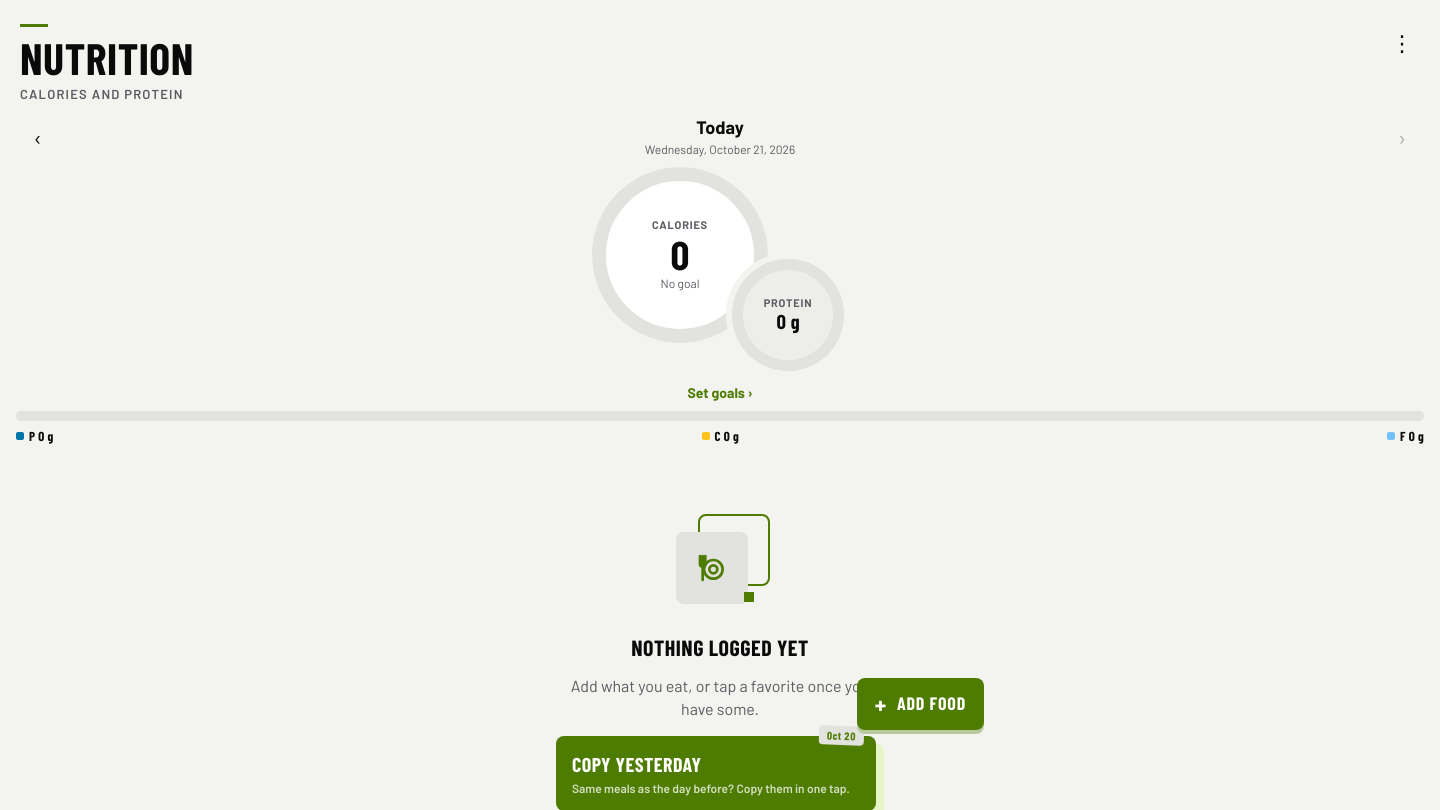
Test: portion in the day list › keeps the grams on copied entries
Click the button with test id "copy-previous-day". click: x=637, y=764
box: [556,736,876,809]
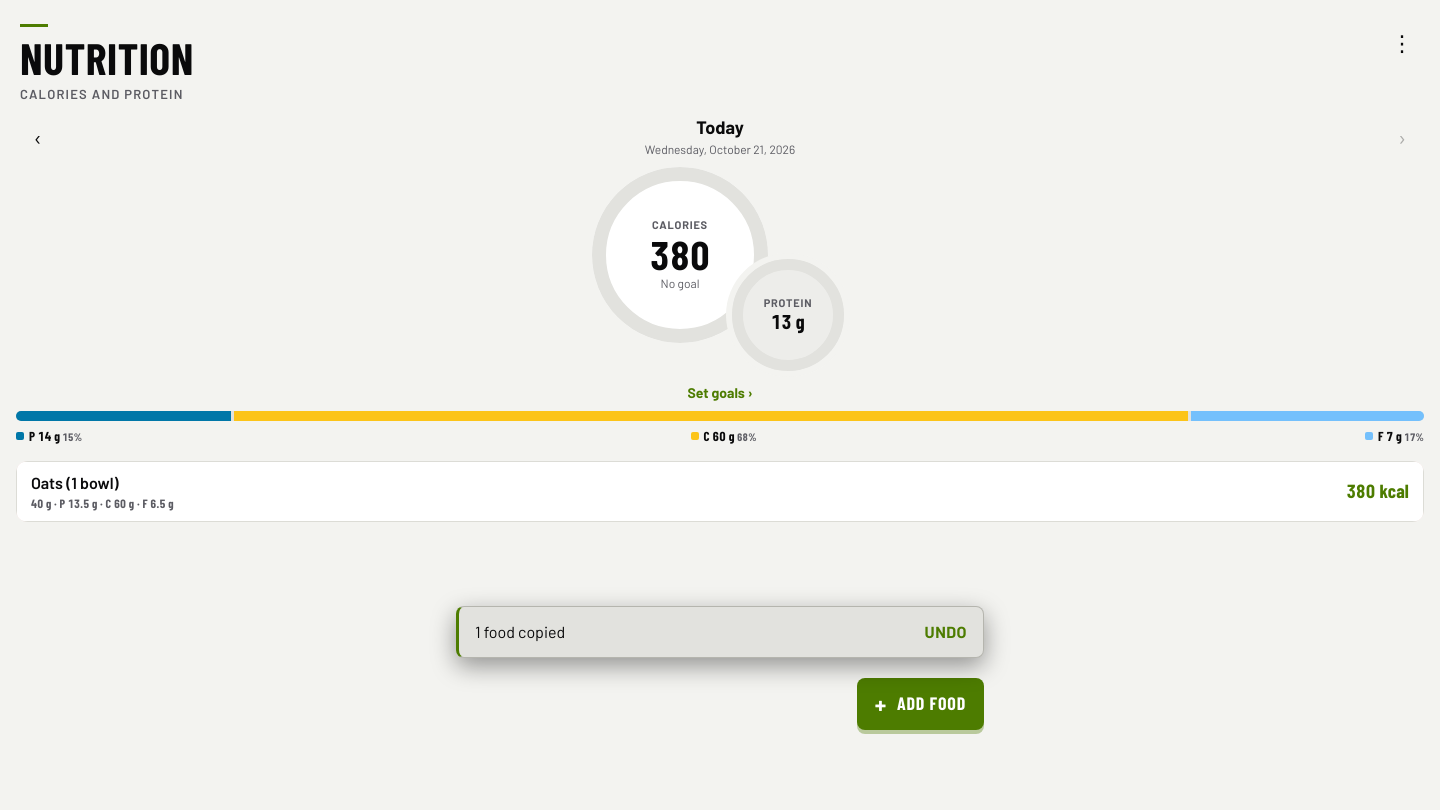
Expected: the text "Oats (1 bowl)" is shown, [31,473,118,492]
Expected: the text with test id "food-portion" shows "40 g", [31,496,52,510]
